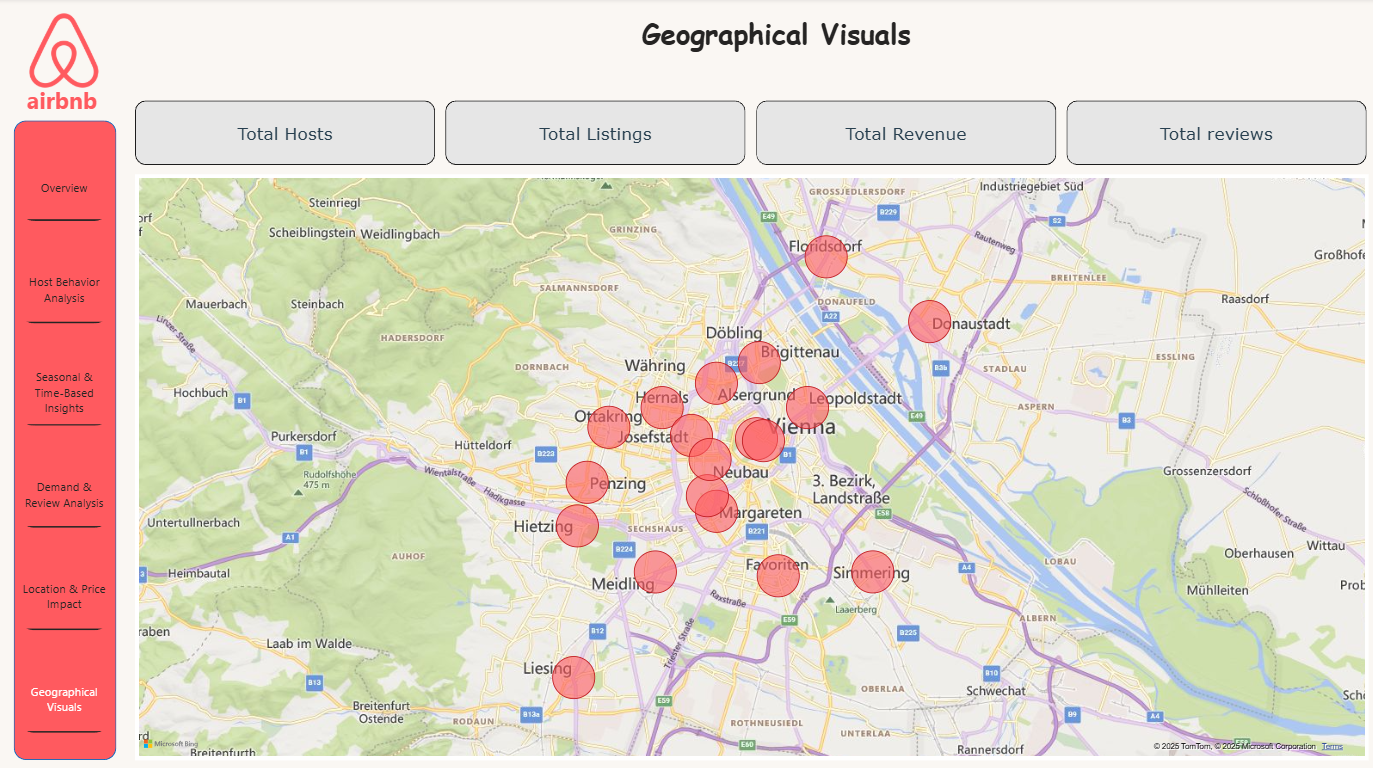

The page's visual inventory and layout, read from the dashboard file:
{"tool":"powerbi","page":{"name":"Geographical Visuals","canvas":[1600,900],"ordinal":5},"visuals":[{"type":"map","fields":{"Size":["Measures (2).Total Hosts"],"Category":["cleaned_Listings_data.neighbourhood_cleansed"]},"box":[157,204.9,1434.6,681.7],"z":0},{"type":"advancedSlicerVisual","fields":{"Values":["Measures Selector.Measures Selector"]},"box":[157,119.2,1434.6,75.6],"z":1000},{"type":"image","box":[8.2,13.1,130.8,96.4],"z":2000},{"type":"textbox","box":[5.7,96.5,132.5,45.4],"z":3000},{"type":"shape","box":[16.3,142.2,119.3,743.7],"z":4000},{"type":"textbox","box":[213.9,13.2,1377.9,68.1],"z":5000},{"type":"pageNavigator","box":[20.8,179.8,109.8,679.5],"z":6000}]}

Visuals, with their boxes on the page's 1600x900 design canvas (x1, y1, x2, y2). These are canvas units, not pixel positions in the 1373x768 screenshot, which may show the page scaled, cropped or inside an application window:
map - Measures (2).Total Hosts x cleaned_Listings_data.neighbourhood_cleansed: [157, 205, 1592, 887]
advancedSlicerVisual - Measures Selector.Measures Selector: [157, 119, 1592, 195]
image: [8, 13, 139, 110]
textbox: [6, 96, 138, 142]
shape: [16, 142, 136, 886]
textbox: [214, 13, 1592, 81]
pageNavigator: [21, 180, 131, 859]
